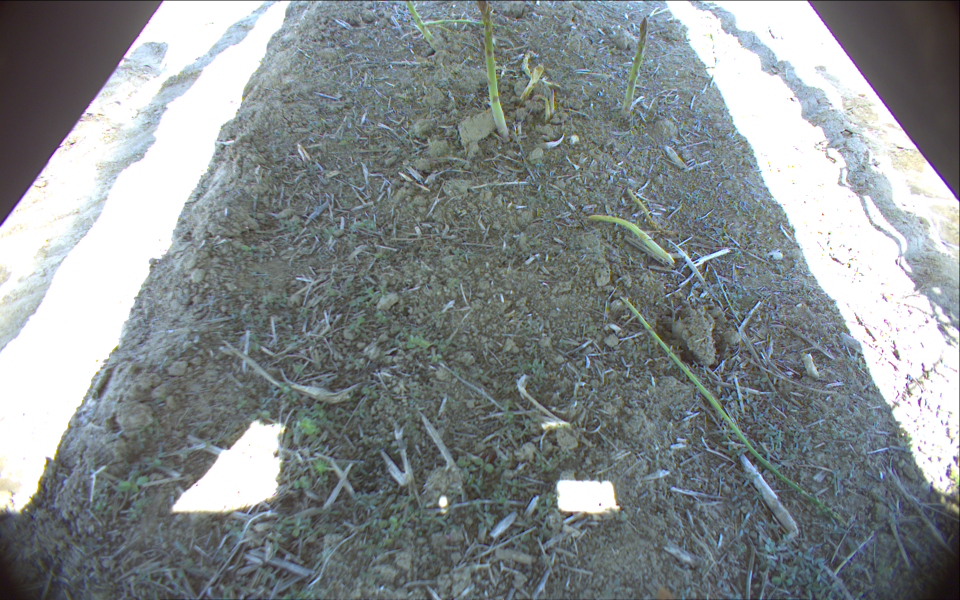aspa: (475, 1, 510, 138), (618, 17, 650, 113), (403, 1, 442, 57)
